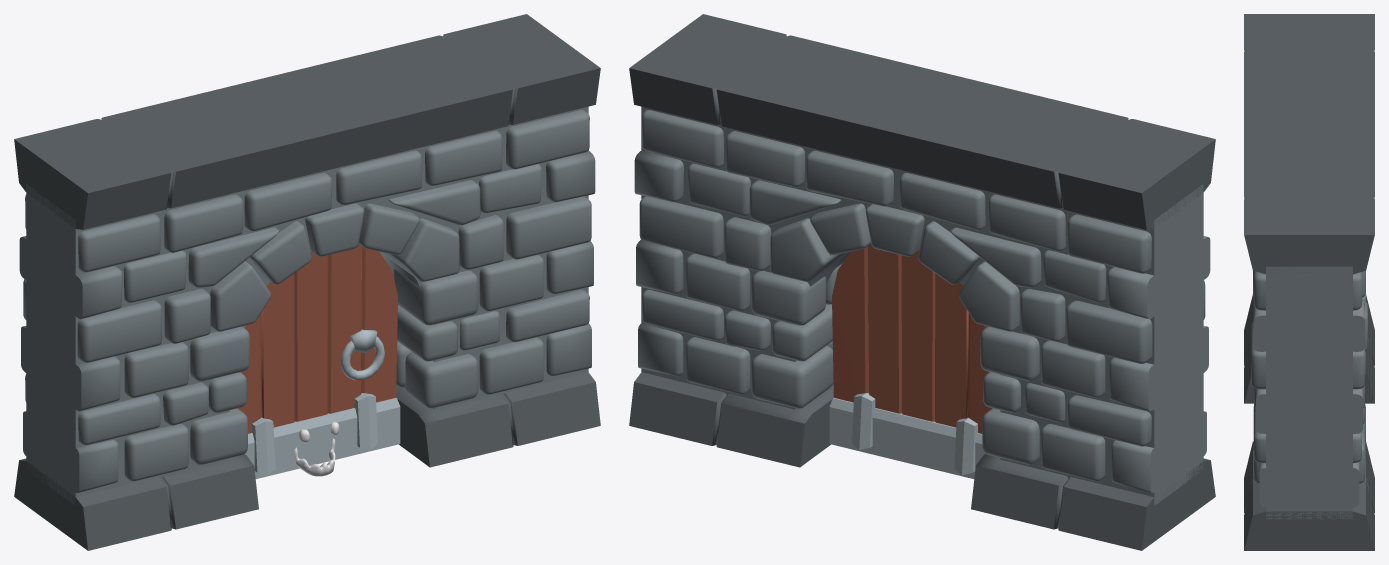
Rendered from door.glb.
The picture shows the model from 3 angles, left to right: view 1: azimuth 30°, elevation 25°; view 2: azimuth 150°, elevation 25°; view 3: azimuth 270°, elevation 25°; orthographic projection. The views are drawn at different scales.
Parts seen in each view (by area): view 1: wall_door, door; view 2: wall_door, door; view 3: wall_door.
Part boxes in pixels (box(x1,y1,x2,y2)): wall_door: box(14, 14, 600, 550); door: box(238, 244, 400, 478); wall_door: box(629, 14, 1215, 550); door: box(829, 244, 991, 478); wall_door: box(1244, 14, 1374, 550).
Size of the model in its own units: 6 by 4.03 by 1.5.
